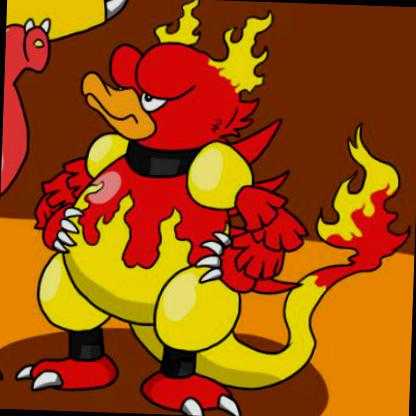Magmar: (0, 2, 415, 388)
